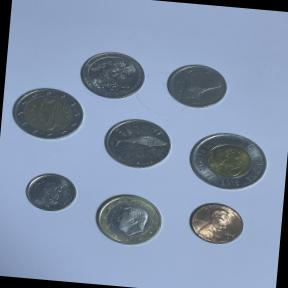coin: (180, 128, 274, 198), (86, 186, 172, 253), (6, 82, 88, 146), (99, 114, 178, 176), (76, 47, 150, 105), (181, 194, 252, 250), (20, 166, 83, 218)
